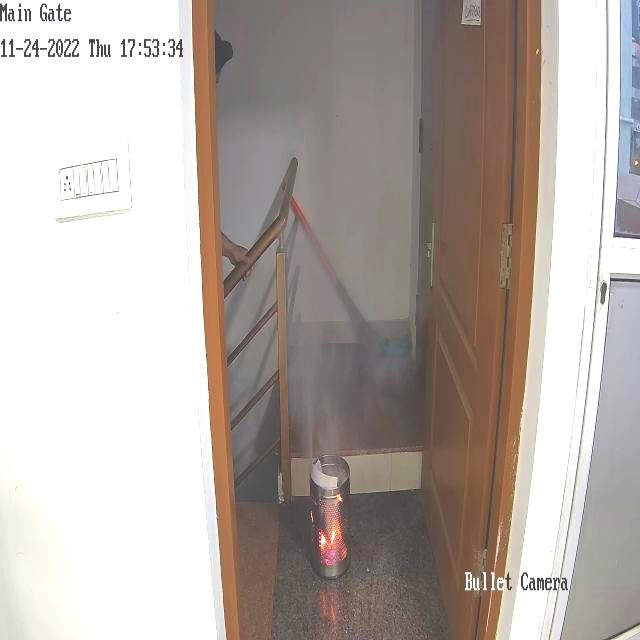fire: (311, 490, 350, 584)
smoke: (292, 288, 345, 454), (322, 143, 384, 230), (348, 78, 412, 159), (348, 328, 406, 414), (358, 203, 402, 296)
